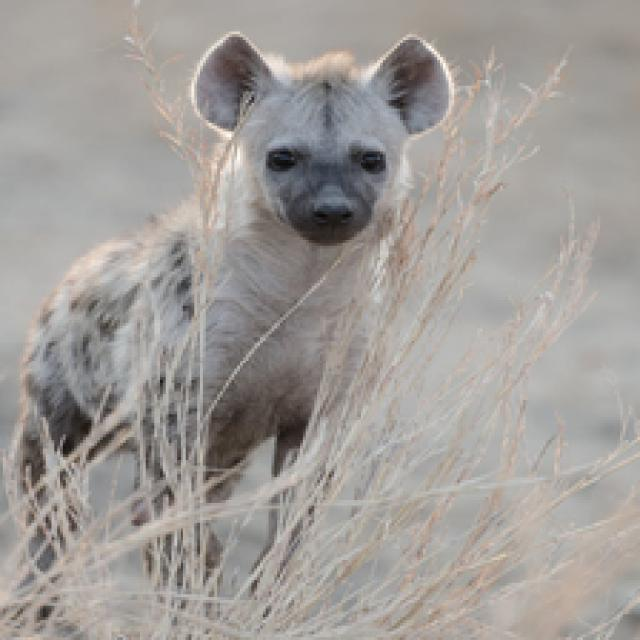hyena: (3, 11, 493, 630)
